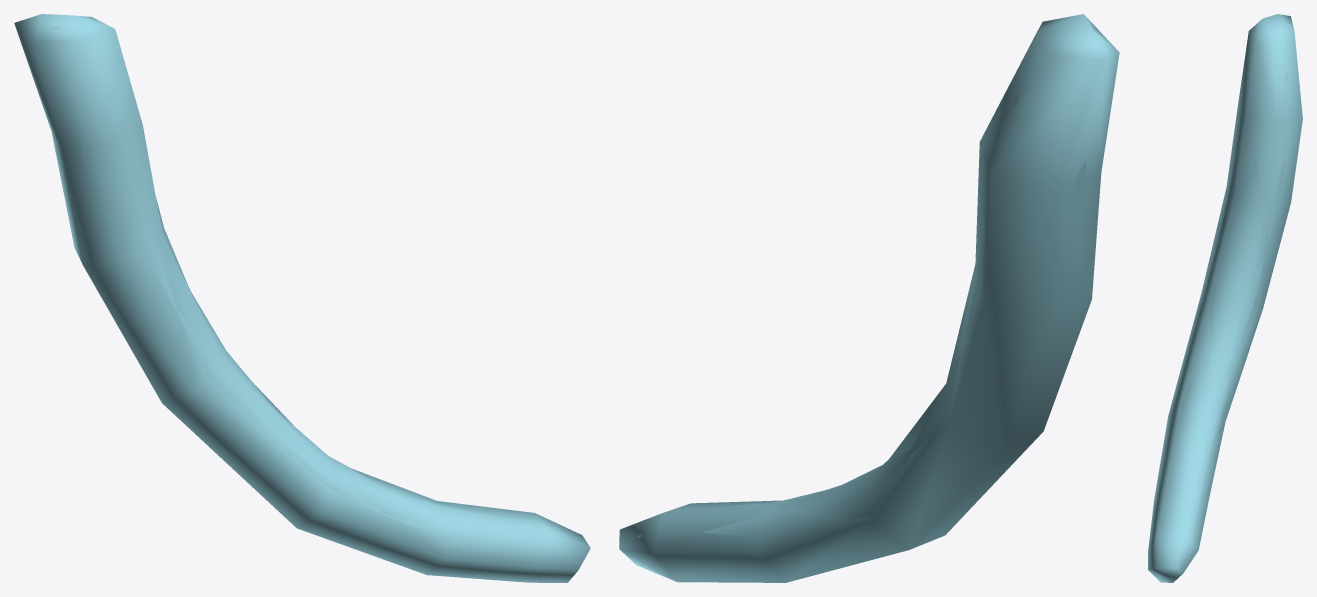
The picture shows the model from 3 angles, left to right: view 1: azimuth 30°, elevation 25°; view 2: azimuth 150°, elevation 25°; view 3: azimuth 270°, elevation 25°; orthographic projection. The views are drawn at different scales.
Visible parts, largest first — view 1: CC R1 low, CC R1; view 2: CC R1 low, CC R1; view 3: CC R1 low, CC R1.
Boxes of the visible parts, x1,y1,x2,y2 form: CC R1 low: [14, 14, 590, 582]; CC R1: [50, 25, 554, 575]; CC R1 low: [619, 14, 1119, 582]; CC R1: [637, 29, 1099, 567]; CC R1 low: [1148, 14, 1302, 582]; CC R1: [1158, 72, 1288, 576].
Bounding box in the file's own units: 1.03 × 1.26 × 0.4182.
